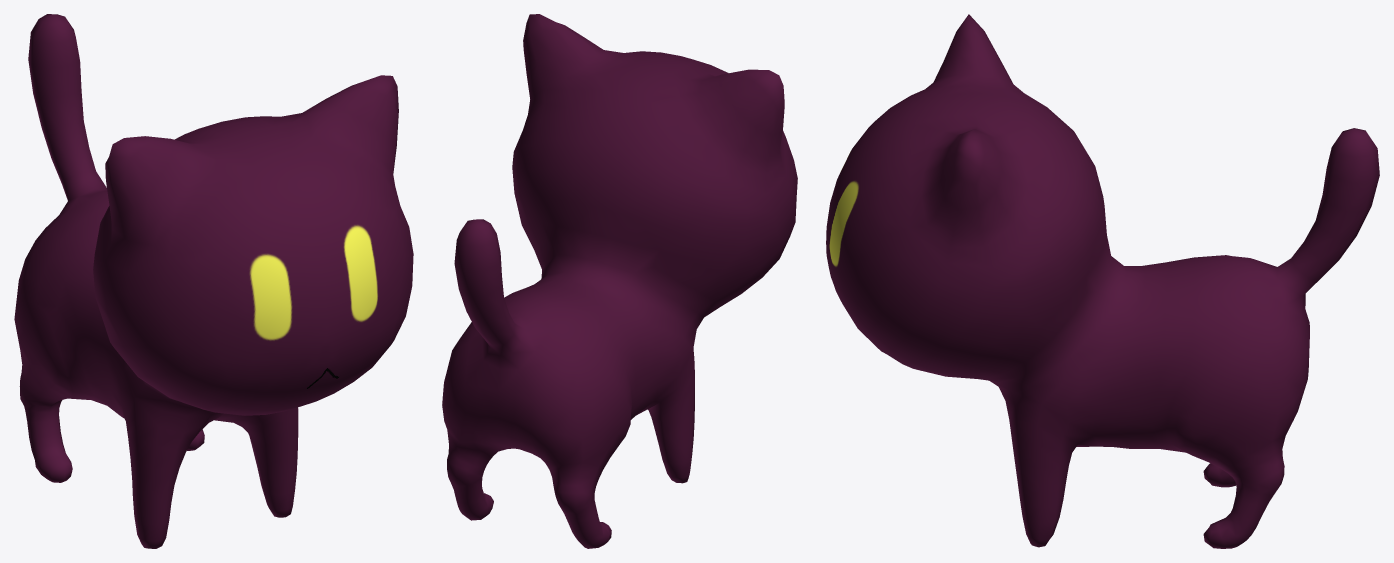
File: cat.glb
3 views of the same model, side by side, from view 1: azimuth 30°, elevation 25°; view 2: azimuth 150°, elevation 25°; view 3: azimuth 270°, elevation 25° (orthographic). The views are drawn at different scales.
Visible parts, largest first — view 1: Plane.002; view 2: Plane.002; view 3: Plane.002.
Boxes of the visible parts, x1=… form: Plane.002: x1=14, y1=14, x2=413, y2=548; Plane.002: x1=442, y1=14, x2=797, y2=548; Plane.002: x1=826, y1=14, x2=1379, y2=548.
Size of the model in its own units: 2.66 by 3.99 by 4.56.
Materials: 1 (1 with a texture image).
